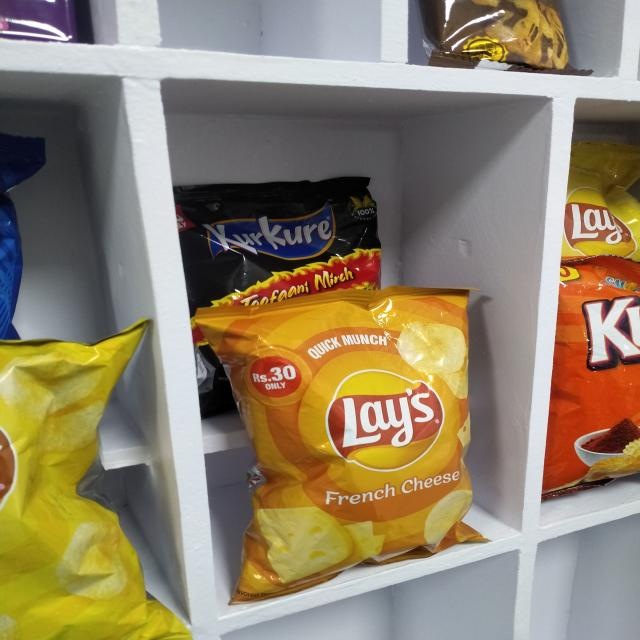Plastic: (198, 291, 484, 575), (0, 326, 162, 640), (180, 176, 384, 294), (546, 261, 640, 498), (432, 2, 570, 67), (568, 140, 640, 262)
